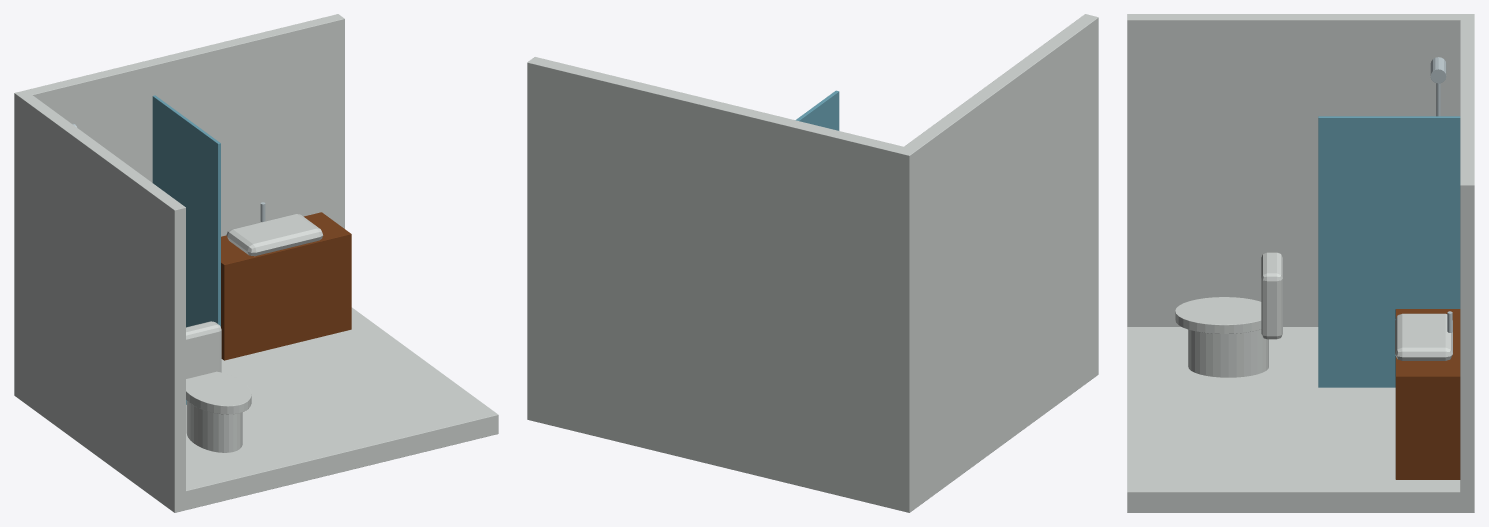
The picture shows the model from 3 angles, left to right: view 1: azimuth 30°, elevation 25°; view 2: azimuth 150°, elevation 25°; view 3: azimuth 270°, elevation 25°; orthographic projection. The views are drawn at different scales.
Parts seen in each view (by area): view 1: WALL_Left, WALL_Back, FLOOR, VANITY, PARTITION, VANITY_Basin, WC_Seat, WC_Base, WC_Cistern; view 2: WALL_Back, WALL_Left, FLOOR, PARTITION; view 3: WALL_Left, FLOOR, PARTITION, VANITY, WALL_Back, WC_Base, WC_Seat, VANITY_Basin, WC_Cistern, SHOWER_Tray, SHOWER_Head.
Part boxes in pixels (<box>): WALL_Left: <box>14,90,185,500</box>; WALL_Back: <box>18,14,344,236</box>; FLOOR: <box>14,307,498,512</box>; VANITY: <box>221,212,351,360</box>; PARTITION: <box>152,95,220,327</box>; VANITY_Basin: <box>226,214,323,256</box>; WC_Seat: <box>186,371,251,414</box>; WC_Base: <box>186,400,242,452</box>; WC_Cistern: <box>186,321,221,378</box>; WALL_Back: <box>527,57,917,493</box>; WALL_Left: <box>896,14,1098,497</box>; FLOOR: <box>527,353,1098,512</box>; PARTITION: <box>795,90,839,130</box>; WALL_Left: <box>1127,14,1474,326</box>; FLOOR: <box>1127,327,1474,512</box>; PARTITION: <box>1318,116,1460,379</box>; VANITY: <box>1395,309,1460,479</box>; WALL_Back: <box>1460,14,1474,499</box>; WC_Base: <box>1188,329,1268,377</box>; WC_Seat: <box>1175,297,1261,333</box>; VANITY_Basin: <box>1395,313,1452,360</box>; WC_Cistern: <box>1261,252,1282,339</box>; SHOWER_Tray: <box>1318,380,1395,387</box>; SHOWER_Head: <box>1430,57,1446,83</box>.
Size of the model in its own units: 2.8 by 2.5 by 2.4.
